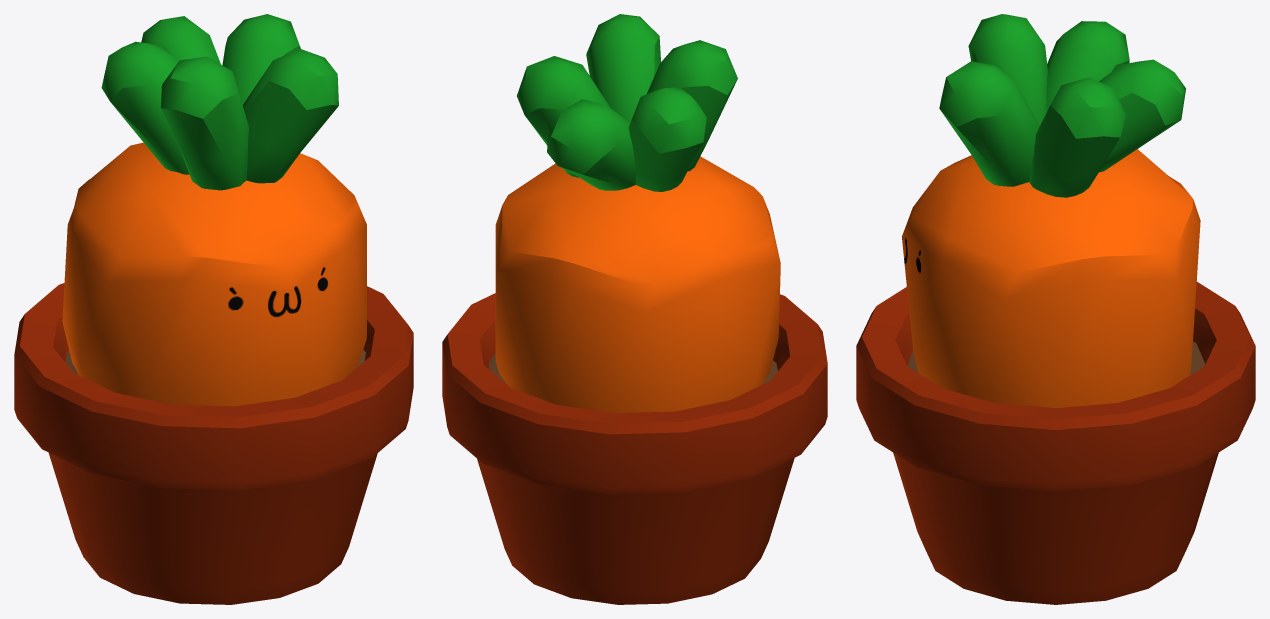
Rendered from carrot-m5qgg4dg.glb.
The picture shows the model from 3 angles, left to right: view 1: azimuth 30°, elevation 25°; view 2: azimuth 150°, elevation 25°; view 3: azimuth 270°, elevation 25°; orthographic projection. The views are drawn at different scales.
Parts seen in each view (by area): view 1: pot, body, front-right, front-left, right, left, back; view 2: pot, body, right, back, front-left, front-right, left; view 3: pot, body, front-left, left, back, front-right, right.
Part boxes in pixels (<box>): pot: <box>14,283,413,604</box>; body: <box>62,142,366,406</box>; front-right: <box>161,56,248,190</box>; front-left: <box>242,49,338,183</box>; right: <box>101,41,189,174</box>; left: <box>222,14,300,104</box>; back: <box>141,16,220,64</box>; pot: <box>442,293,827,604</box>; body: <box>495,156,780,413</box>; right: <box>628,87,706,191</box>; back: <box>547,99,636,190</box>; front-left: <box>586,14,660,122</box>; front-right: <box>647,40,737,171</box>; left: <box>517,56,610,177</box>; pot: <box>856,281,1255,604</box>; body: <box>902,149,1200,407</box>; front-left: <box>939,61,1039,186</box>; left: <box>1029,77,1125,197</box>; back: <box>1099,59,1185,172</box>; front-right: <box>968,14,1047,125</box>; right: <box>1046,21,1129,112</box>.
Bounding box in the file's own units: 2.81 × 3.98 × 2.81.
Materials: 5 (1 with a texture image).
